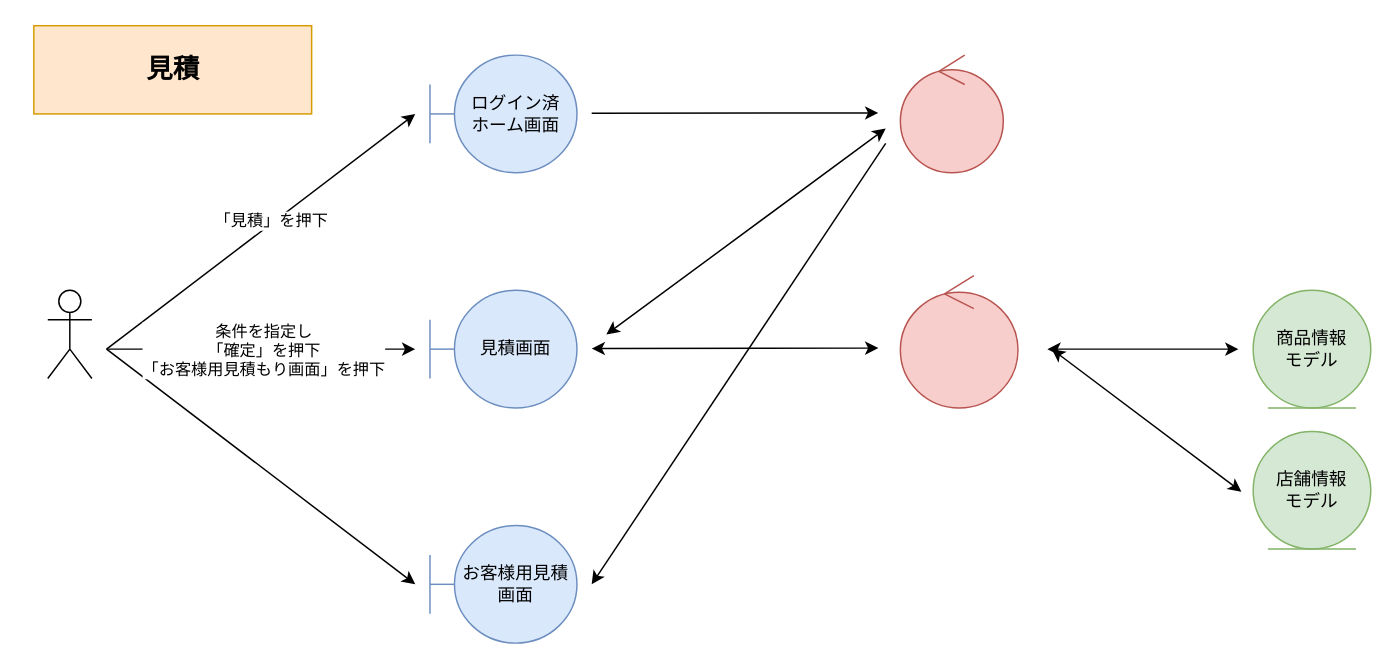
This 1397x669 diagram has some shape labels left out. Here are the shapes that lost their labels. From the top down, the centre of each, then its label:
At (x=951, y=113): "表示する".
At (x=69, y=334): "正規社員 非正規社員".
At (x=958, y=341): "商品情報を 取得する".
